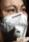with_mask: (2, 2, 29, 42)
